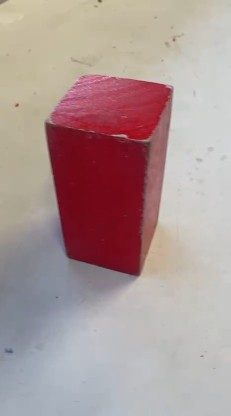red: (57, 55, 148, 292)
